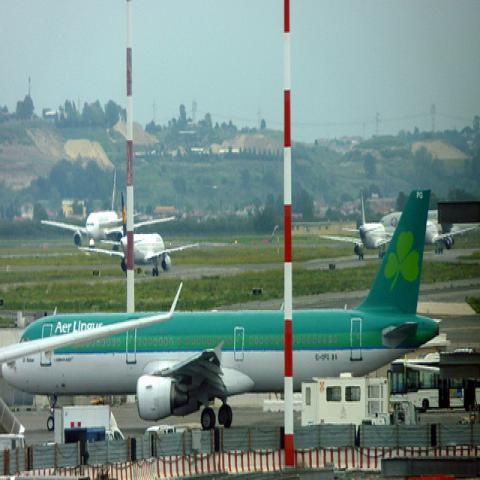bus: (392, 346, 479, 415)
truck: (53, 406, 126, 443)
